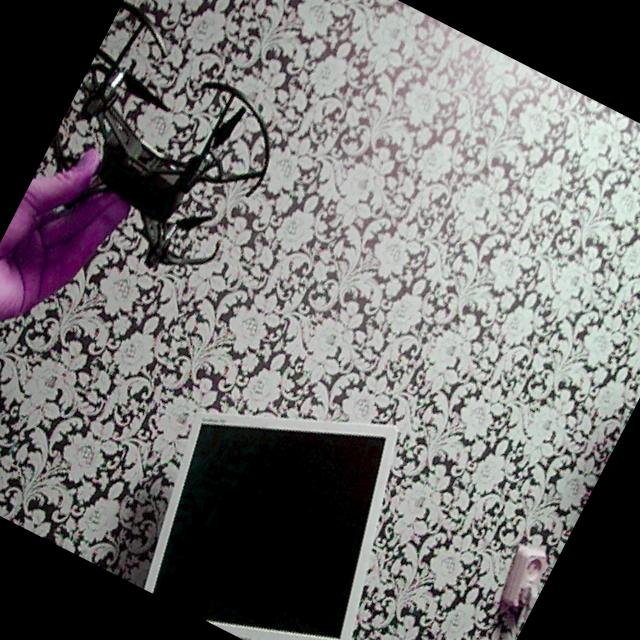drone: (14, 0, 327, 313)
